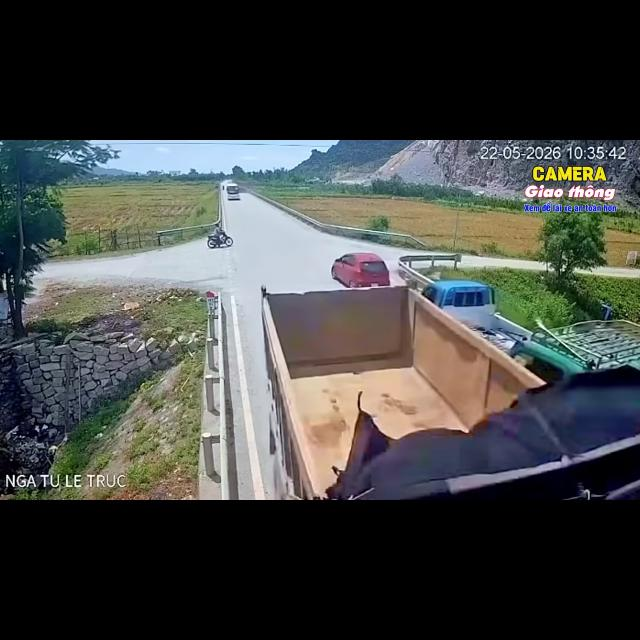bus: (226, 183, 239, 200)
car: (331, 253, 389, 287)
motorcycle: (207, 231, 233, 248)
truck: (262, 286, 639, 499), (262, 287, 544, 499), (399, 256, 639, 382)
